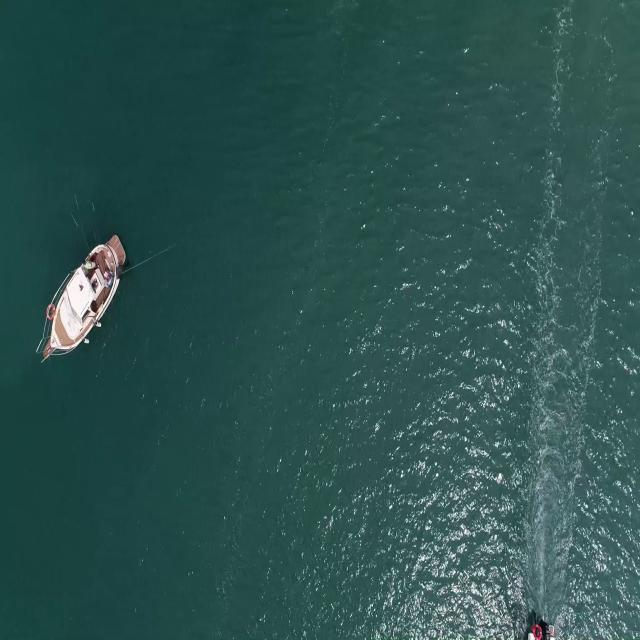boat: (44, 235, 130, 356)
life_buoy: (46, 299, 56, 322), (532, 622, 543, 638)
person: (83, 258, 100, 271), (104, 273, 116, 288)
